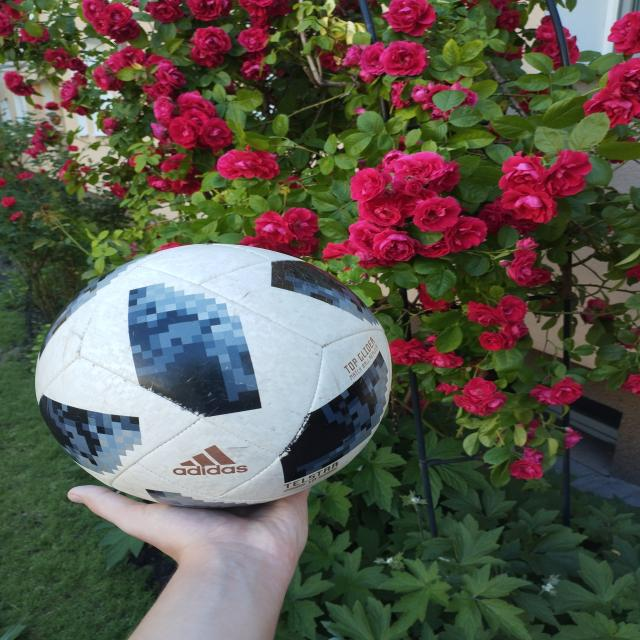nozna: (35, 243, 392, 509)
